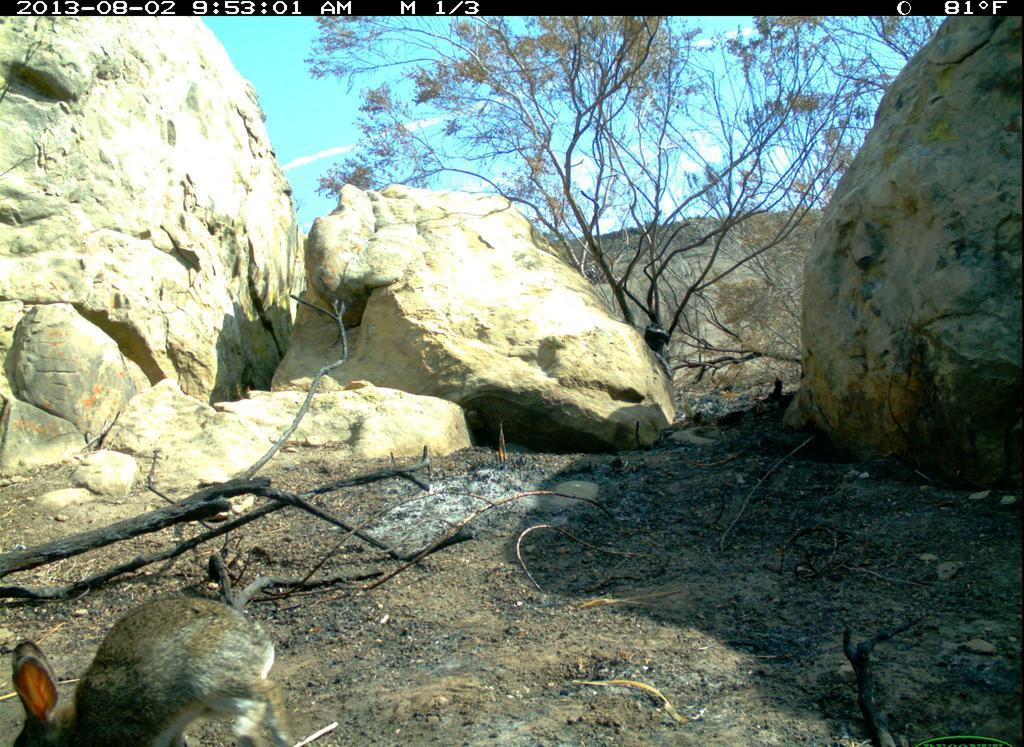rabbit: (11, 589, 296, 744)
